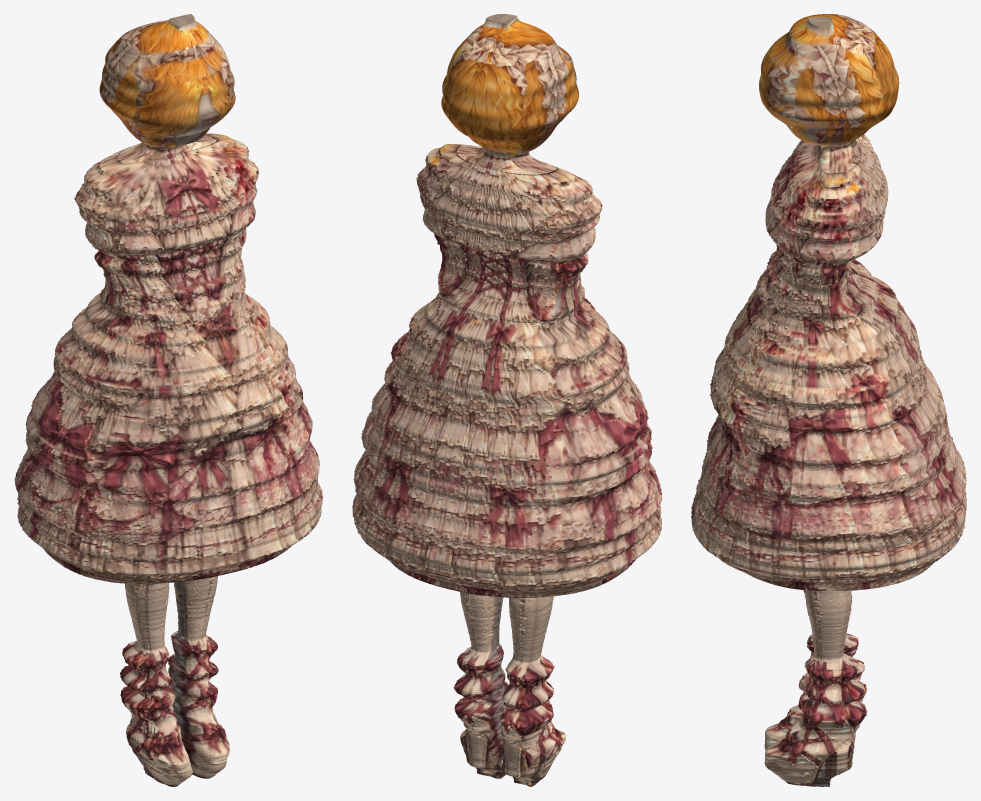
File: doll.glb
The picture shows the model from 3 angles, left to right: view 1: azimuth 30°, elevation 25°; view 2: azimuth 150°, elevation 25°; view 3: azimuth 270°, elevation 25°; orthographic projection.
Parts seen in each view (by area): view 1: geometry_0; view 2: geometry_0; view 3: geometry_0.
Boxes of the visible parts, x1,y1,x2,y2 form: geometry_0: (14,14,323,786); geometry_0: (352,14,662,786); geometry_0: (691,14,966,786).
Bounding box in the file's own units: 0.6042 × 1.62 × 0.5376.
Materials: 1 (1 with a texture image).
